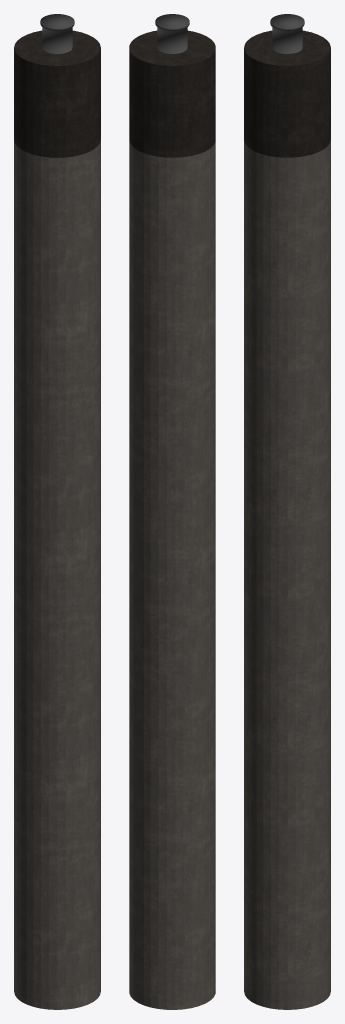
Rendered from betoni_piippu.gltf.
3 renders of one model, left to right at view 1: azimuth 90°, elevation 25°; view 2: azimuth 150°, elevation 25°; view 3: azimuth 270°, elevation 25°, orthographic.
Parts seen in each view (by area): view 1: Cylinder; view 2: Cylinder; view 3: Cylinder.
Boxes of the visible parts, x1,y1,x2,y2 form: Cylinder: [14, 14, 100, 1009]; Cylinder: [129, 14, 215, 1009]; Cylinder: [244, 14, 330, 1009].
Size of the model in its own units: 10 by 123 by 10.
